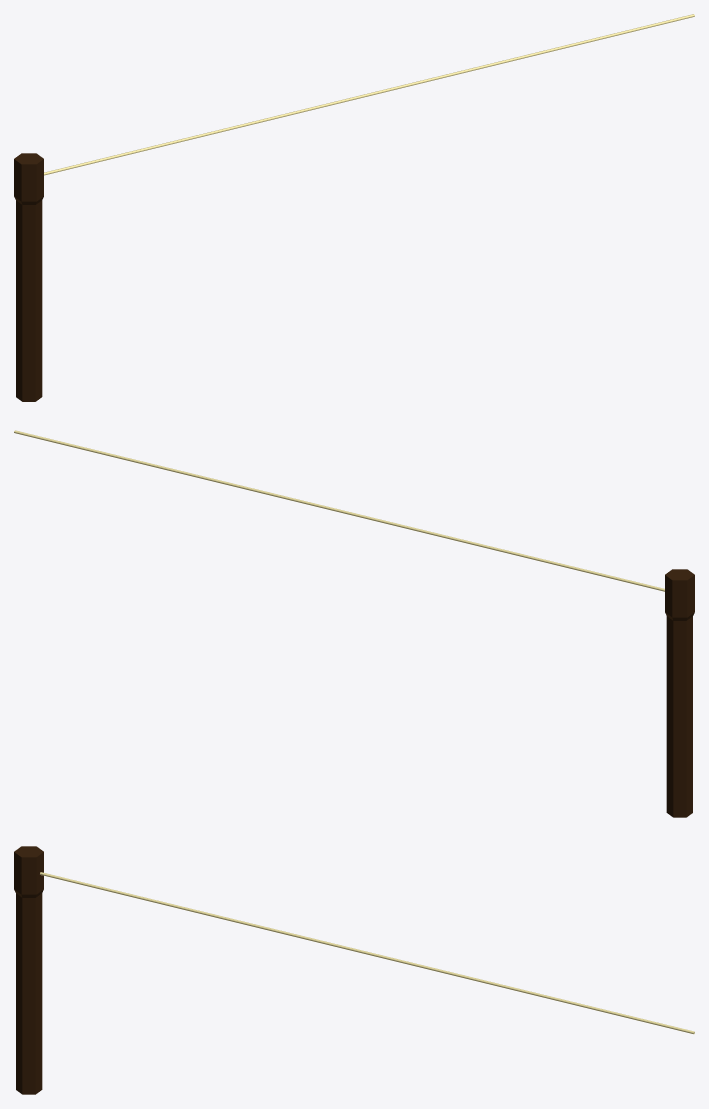
Rendered from pl_pole.FBX.
The picture shows the model from 3 angles, top to bottom: view 1: azimuth 30°, elevation 25°; view 2: azimuth 150°, elevation 25°; view 3: azimuth 330°, elevation 25°; orthographic projection.
Visible parts, largest first — view 1: Cylinder001, Cylinder002; view 2: Cylinder001, Cylinder002; view 3: Cylinder001, Cylinder002.
Part boxes in pixels (x1,y1,x2,y2): Cylinder001: [14, 153, 43, 401]; Cylinder002: [44, 14, 694, 175]; Cylinder001: [665, 569, 694, 817]; Cylinder002: [14, 430, 664, 591]; Cylinder001: [14, 846, 43, 1094]; Cylinder002: [40, 872, 694, 1034].
Size of the model in its own units: 121 by 40.83 by 4.68.
